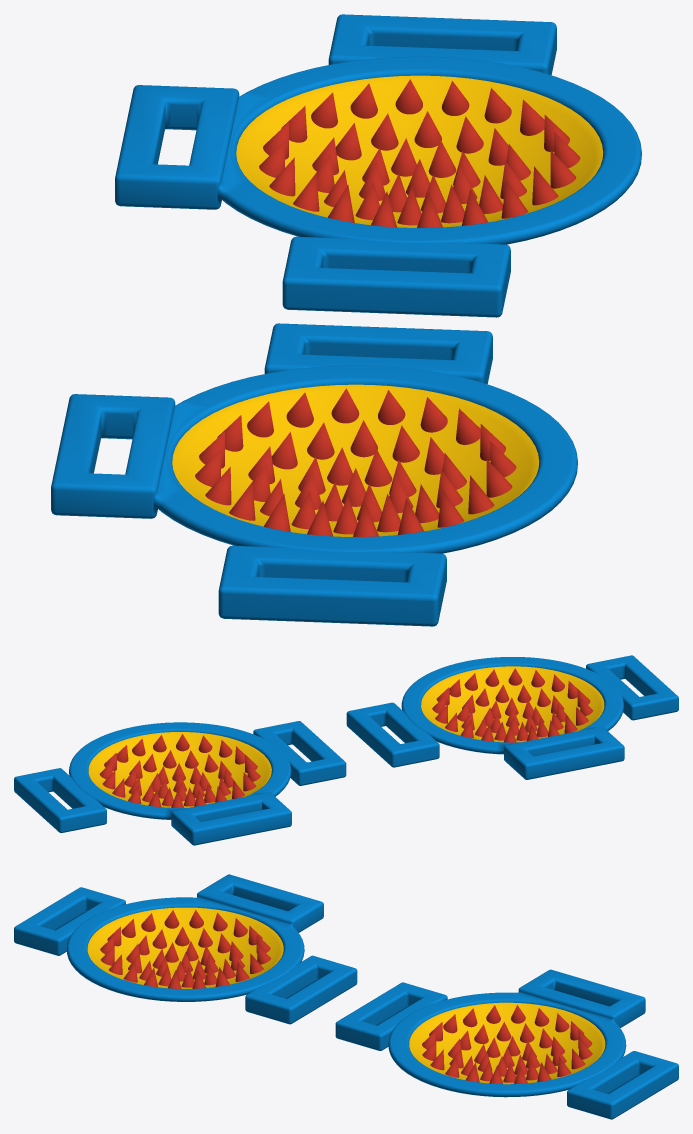
The model's file is twist-grip-cups.glb.
3 renders of one model, top to bottom at view 1: azimuth 30°, elevation 25°; view 2: azimuth 150°, elevation 25°; view 3: azimuth 270°, elevation 25°, orthographic. The views are drawn at different scales.
Parts seen in each view (by area): view 1: twist-grip-cups-part-049, twist-grip-cups-part-002, twist-grip-cups-part-048, twist-grip-cups-part-001, twist-grip-cups-part-093, twist-grip-cups-part-046, twist-grip-cups-part-047, twist-grip-cups-part-094; view 2: twist-grip-cups-part-002, twist-grip-cups-part-049, twist-grip-cups-part-001, twist-grip-cups-part-048, twist-grip-cups-part-047, twist-grip-cups-part-094, twist-grip-cups-part-093, twist-grip-cups-part-046; view 3: twist-grip-cups-part-049, twist-grip-cups-part-002, twist-grip-cups-part-001, twist-grip-cups-part-048, twist-grip-cups-part-047, twist-grip-cups-part-094, twist-grip-cups-part-093, twist-grip-cups-part-046.
Part boxes in pixels (x1,y1,x2,y2): twist-grip-cups-part-049: (115, 56, 641, 244); twist-grip-cups-part-002: (51, 365, 577, 553); twist-grip-cups-part-048: (236, 75, 603, 227); twist-grip-cups-part-001: (172, 384, 539, 536); twist-grip-cups-part-093: (282, 236, 510, 317); twist-grip-cups-part-046: (218, 545, 446, 626); twist-grip-cups-part-047: (264, 323, 492, 384); twist-grip-cups-part-094: (328, 14, 556, 75); twist-grip-cups-part-002: (401, 657, 624, 779); twist-grip-cups-part-049: (69, 722, 291, 845); twist-grip-cups-part-001: (421, 666, 604, 742); twist-grip-cups-part-048: (88, 732, 271, 807); twist-grip-cups-part-047: (346, 702, 439, 767); twist-grip-cups-part-094: (14, 768, 106, 832); twist-grip-cups-part-093: (253, 721, 346, 785); twist-grip-cups-part-046: (586, 655, 678, 720); twist-grip-cups-part-049: (388, 969, 645, 1097); twist-grip-cups-part-002: (66, 874, 323, 1001); twist-grip-cups-part-001: (87, 907, 283, 988); twist-grip-cups-part-048: (409, 1002, 605, 1084); twist-grip-cups-part-047: (245, 955, 357, 1024); twist-grip-cups-part-094: (567, 1051, 678, 1119); twist-grip-cups-part-093: (335, 982, 447, 1050); twist-grip-cups-part-046: (14, 887, 125, 955).
Size of the model in its own units: 2.4 by 0.1909 by 3.
